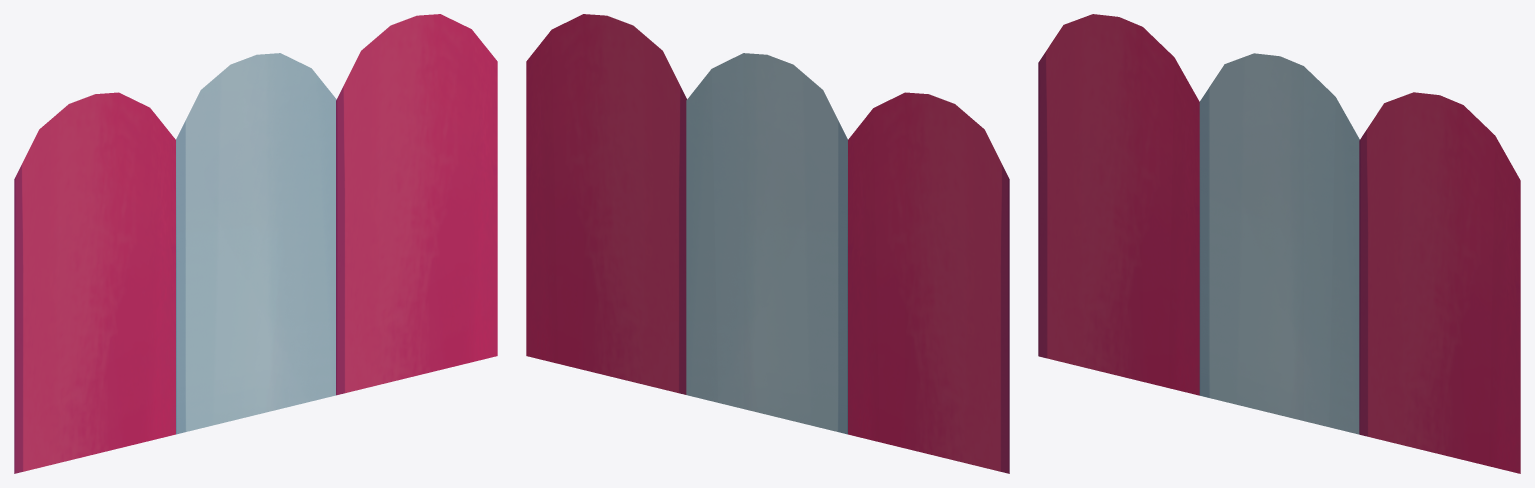
The model's file is M_PopcornContainerPart.fbx.
3 renders of one model, left to right at view 1: azimuth 30°, elevation 25°; view 2: azimuth 150°, elevation 25°; view 3: azimuth 330°, elevation 25°, orthographic.
Parts seen in each view (by area): view 1: Cube.007, Cube.009, Cube.008; view 2: Cube.007, Cube.008, Cube.009; view 3: Cube.007, Cube.009, Cube.008.
Boxes of the visible parts, bbox=[...] form: Cube.007: bbox=[14, 92, 175, 473]; Cube.009: bbox=[336, 14, 497, 395]; Cube.008: bbox=[176, 53, 336, 434]; Cube.007: bbox=[848, 92, 1009, 473]; Cube.008: bbox=[686, 53, 847, 434]; Cube.009: bbox=[526, 14, 686, 394]; Cube.007: bbox=[1038, 14, 1199, 395]; Cube.009: bbox=[1359, 92, 1520, 473]; Cube.008: bbox=[1199, 53, 1359, 434].
Bounding box in the file's own units: 2.85 × 2.03 × 0.00321.
